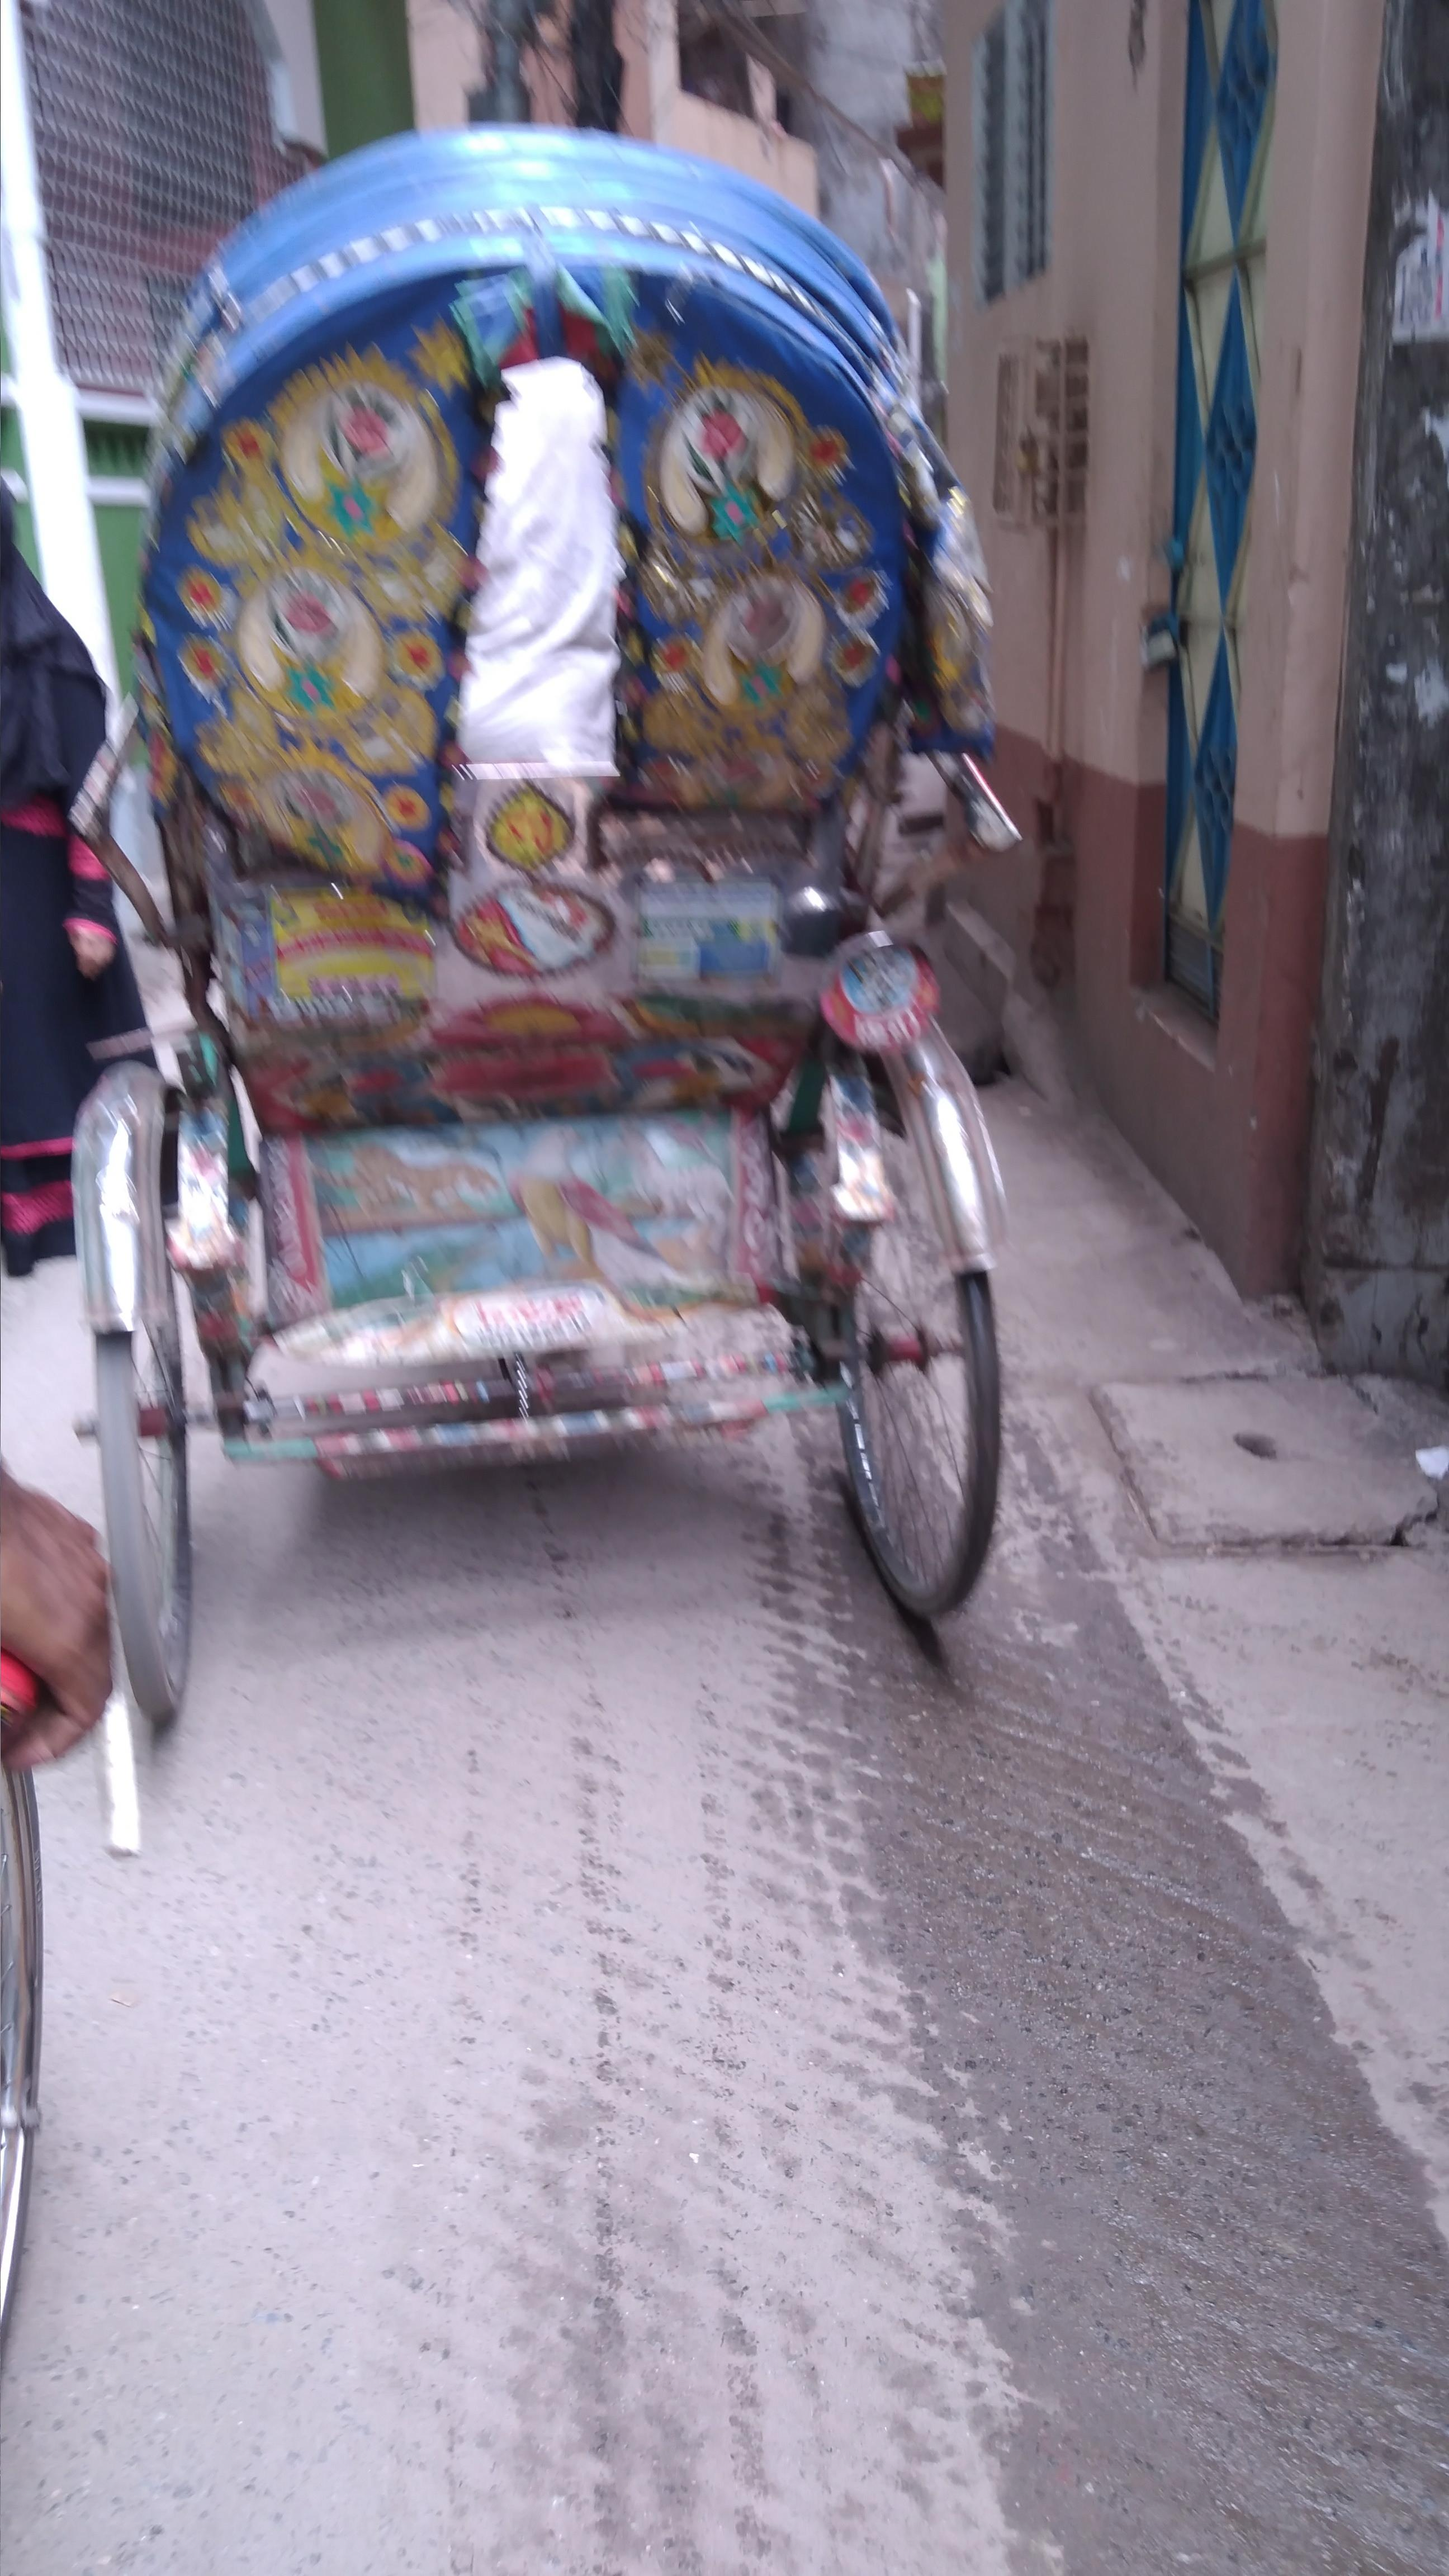Rickshaw: (90, 134, 1086, 1725)
